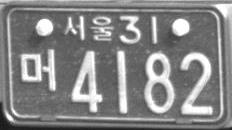1: (109, 49, 135, 115), (144, 14, 163, 44)
2: (179, 49, 214, 116)
3: (117, 13, 143, 45)
4: (69, 49, 103, 114)
8: (142, 51, 175, 115)
머: (18, 47, 57, 92)
서울_O: (62, 13, 115, 42)
